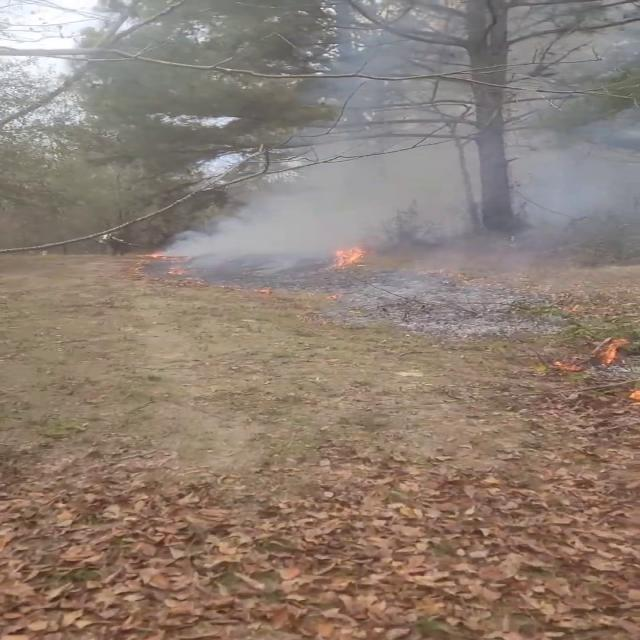Fire: (327, 240, 371, 270)
Smoke: (155, 0, 640, 293)
